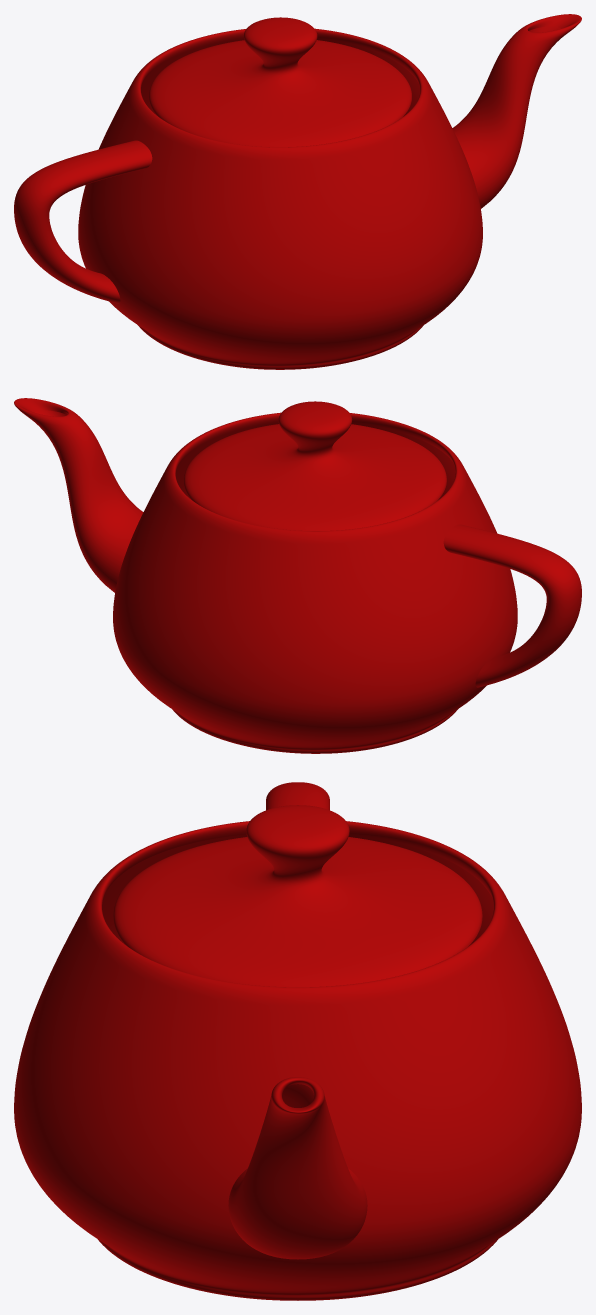
File: teapot.glb
The picture shows the model from 3 angles, top to bottom: view 1: azimuth 30°, elevation 25°; view 2: azimuth 150°, elevation 25°; view 3: azimuth 270°, elevation 25°; orthographic projection. The views are drawn at different scales.
Parts seen in each view (by area): view 1: Teapot001; view 2: Teapot001; view 3: Teapot001.
Boxes of the visible parts, x1,y1,x2,y2 form: Teapot001: [14, 14, 581, 369]; Teapot001: [14, 398, 581, 753]; Teapot001: [14, 782, 581, 1300].
Size of the model in its own units: 1.75 by 0.8559 by 1.09.
